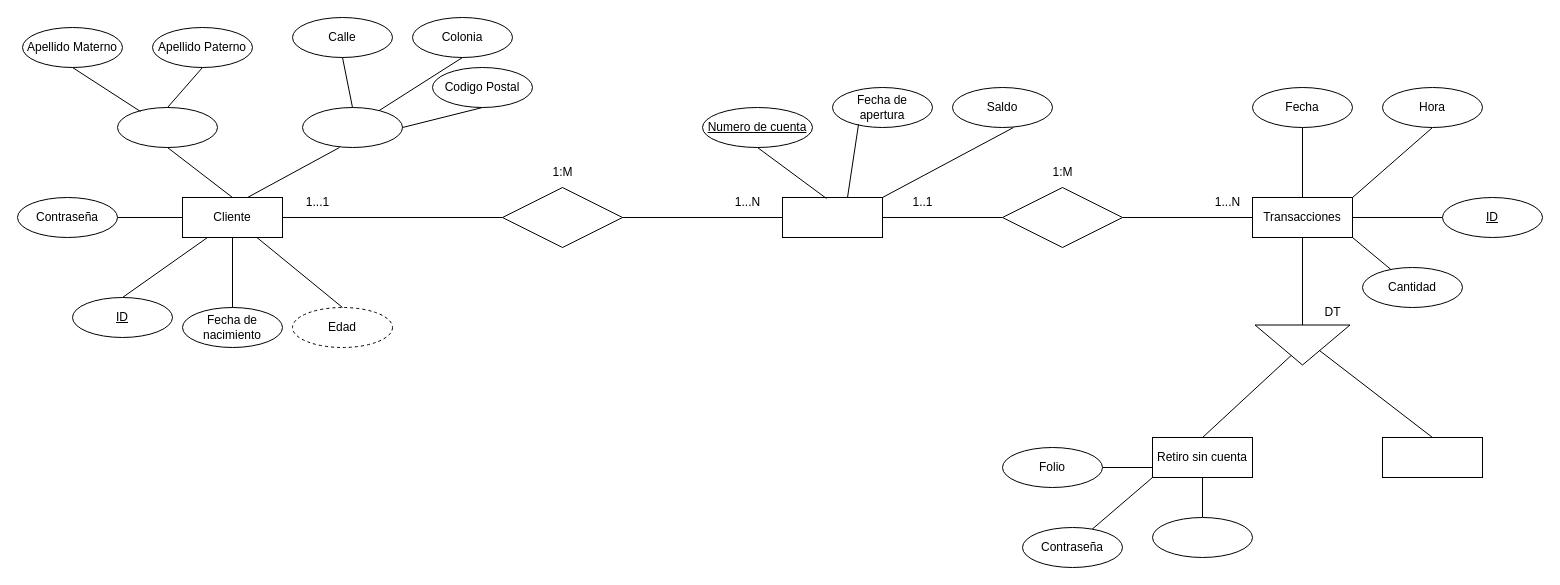
This 1560x585 diagram has some shape labels left out. Here are the shapes that lost their labels. From the top down, the centre of each, then its label:
At [167,127]: "Nombres".
At [352,127]: "Direccion".
At [562,217]: "Tiene".
At [832,217]: "Cuenta".
At [1062,217]: "Realiza".
At [1432,457]: "Transferencia".
At [1202,537]: "Estado".
